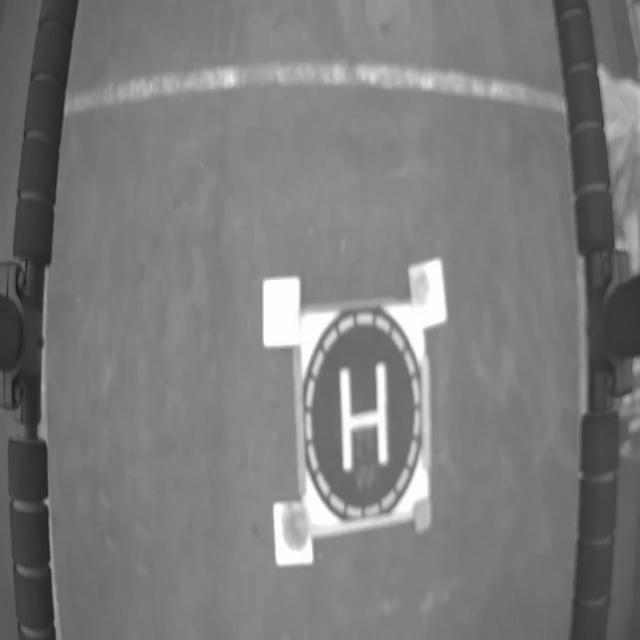Helipad: (339, 358, 390, 474)
